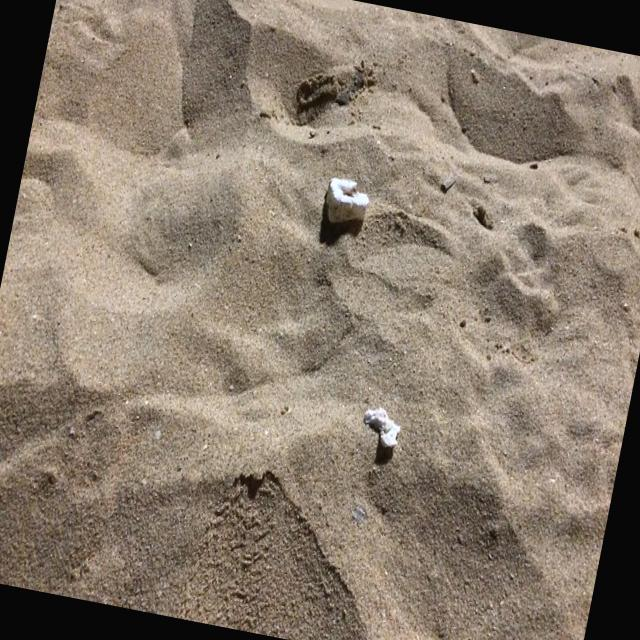Trash: (322, 172, 378, 232), (358, 392, 408, 456)
